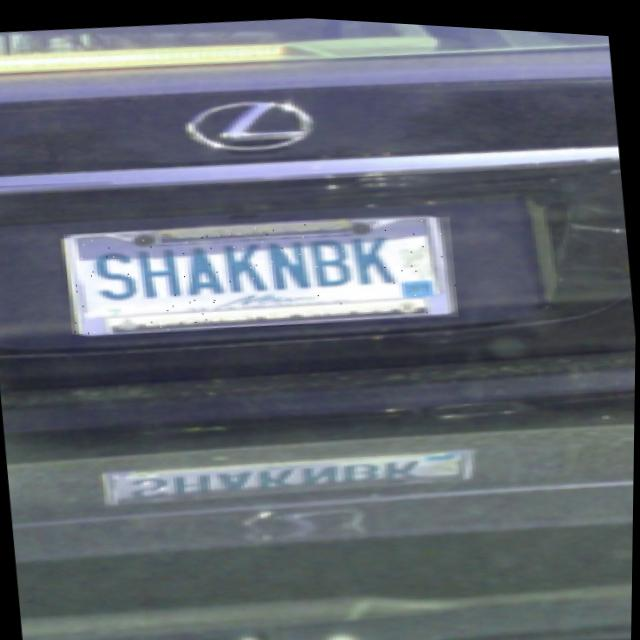license_plate: (63, 193, 460, 351)
